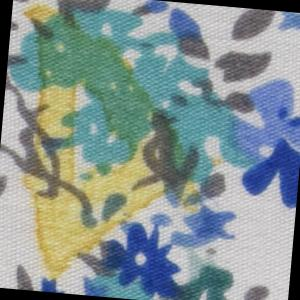Oil Stain: (1, 1, 239, 297)
